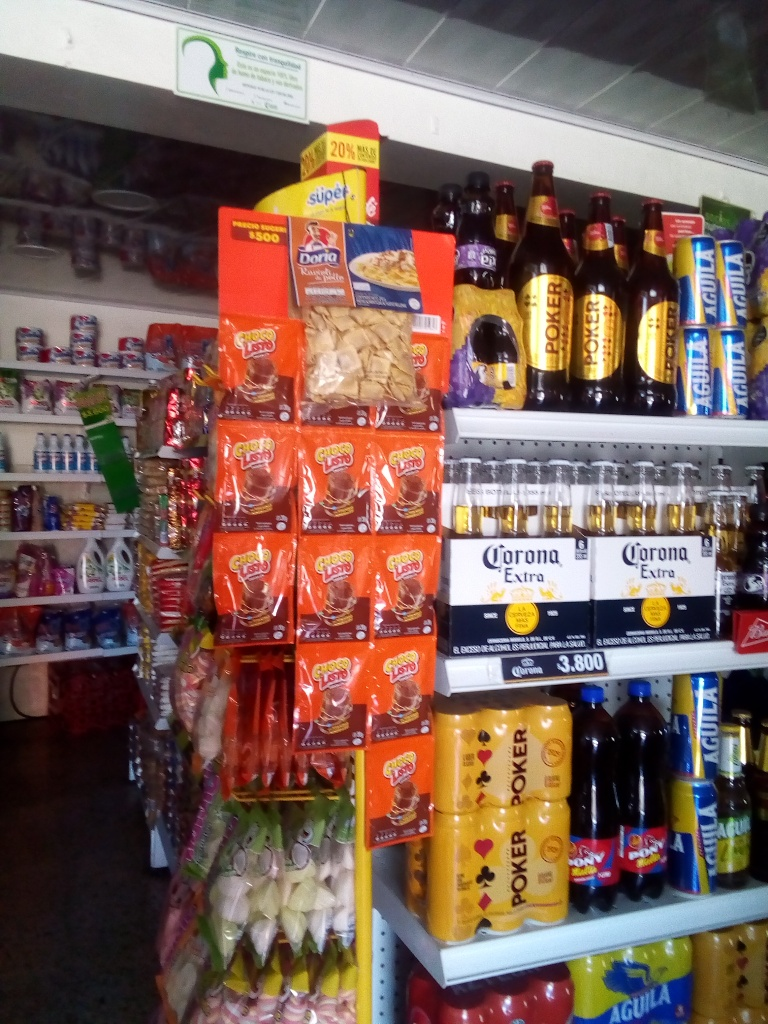COL0170104DYP20000: (439, 858, 542, 1003)
COL0170203DYP10000: (1, 844, 114, 1024)
